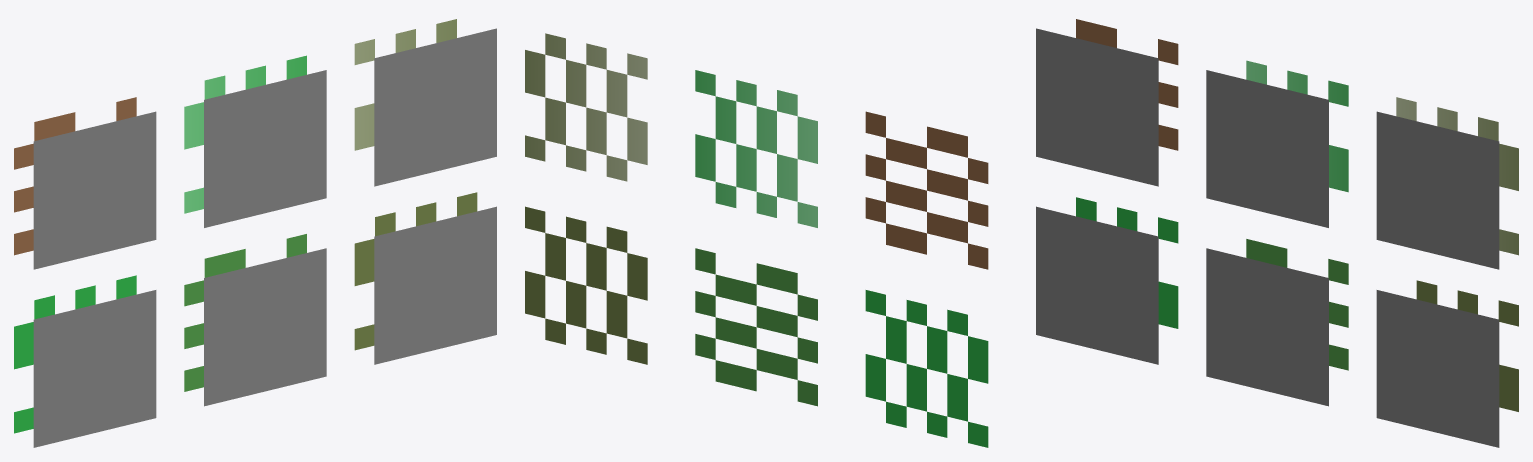
Rendered from spatial_alpha_scene.gltf.
The picture shows the model from 3 angles, left to right: view 1: azimuth 30°, elevation 25°; view 2: azimuth 150°, elevation 25°; view 3: azimuth 330°, elevation 25°; orthographic projection.
Visible parts, largest first — view 1: rear_3, rear_0, rear_1, rear_2, rear_4, rear_5, front_2, front_4, front_3, front_1, front_0, front_5; view 2: front_1, front_5, front_2, front_4, front_0, front_3; view 3: rear_5, rear_2, rear_0, rear_1, rear_3, rear_4, front_5, front_0, front_3, front_2, front_1, front_4.
Boxes of the visible parts, x1,y1,x2,y2 form: rear_3: (33, 111, 156, 269); rear_0: (33, 290, 156, 447); rear_1: (204, 248, 326, 406); rear_2: (374, 206, 496, 364); rear_4: (204, 70, 326, 227); rear_5: (374, 28, 496, 186); front_2: (354, 192, 477, 350); front_4: (184, 55, 306, 213); front_3: (14, 97, 136, 255); front_1: (184, 234, 306, 391); front_0: (14, 275, 136, 433); front_5: (354, 19, 456, 150); front_1: (695, 248, 817, 406); front_5: (525, 33, 647, 181); front_2: (525, 206, 647, 364); front_4: (695, 70, 817, 227); front_0: (865, 290, 988, 447); front_3: (865, 111, 988, 269); rear_5: (1376, 111, 1499, 269); rear_2: (1376, 290, 1499, 447); rear_0: (1036, 206, 1158, 364); rear_1: (1206, 248, 1328, 406); rear_3: (1036, 28, 1158, 186); rear_4: (1206, 70, 1328, 227); front_5: (1396, 97, 1518, 255); front_0: (1076, 197, 1178, 328); front_3: (1076, 19, 1178, 150); front_2: (1416, 280, 1518, 411); front_1: (1246, 239, 1348, 370); front_4: (1246, 60, 1348, 192).
Size of the model in its own units: 3.4 by 2.15 by 0.25.
Materials: 7 (6 with a texture image).
